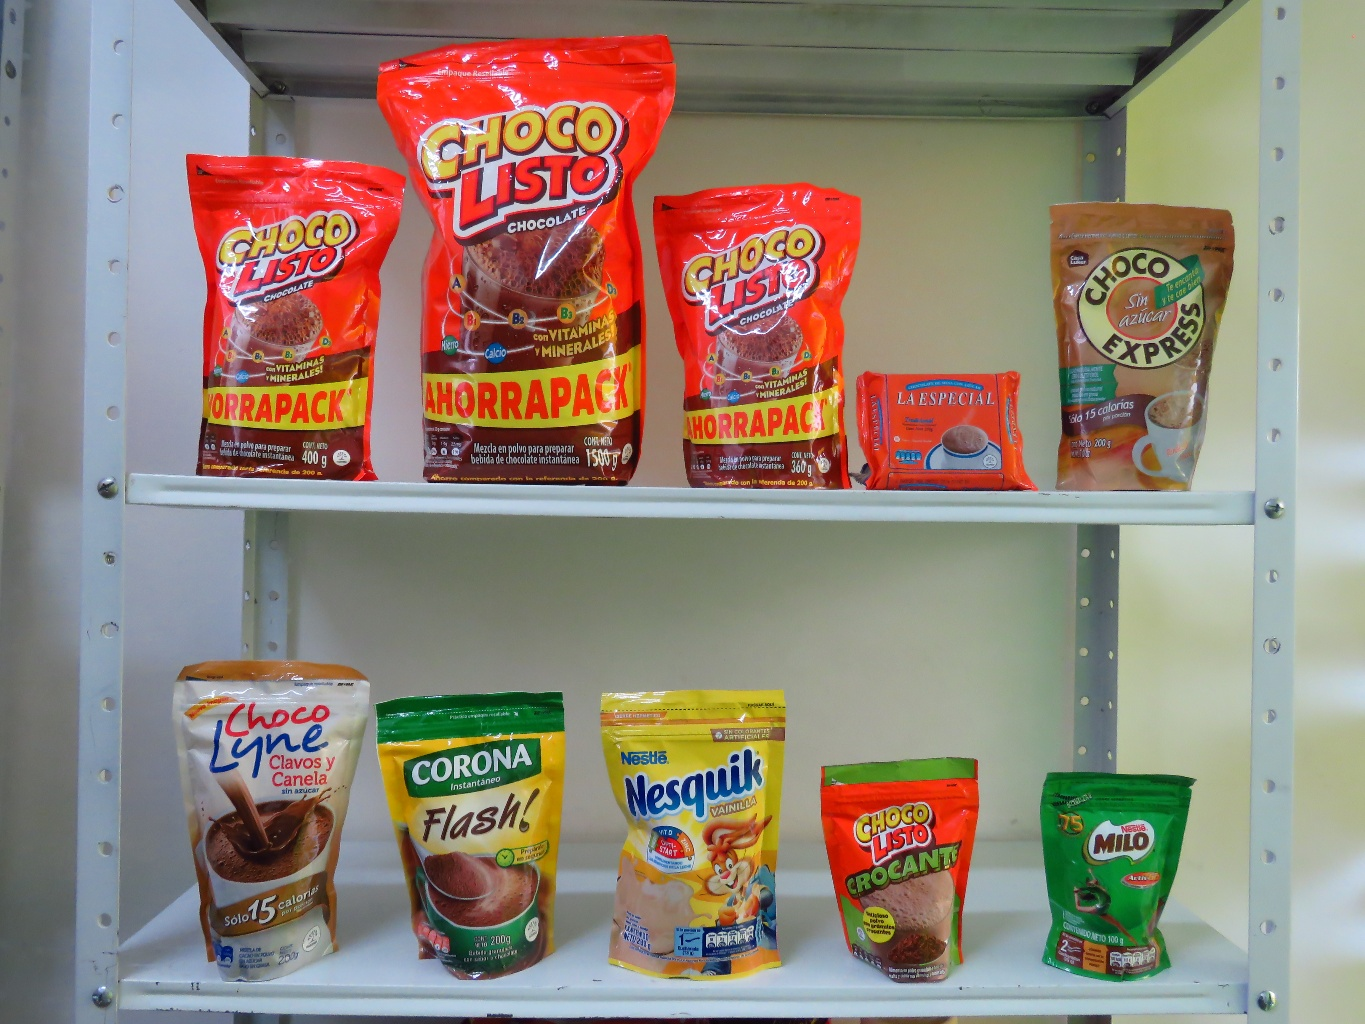COL0170102DYP10000: (823, 757, 977, 993)
COL0170103DYP1,500: (379, 35, 670, 485)
COL0170103DYP36000: (649, 189, 862, 490)
COL0170103DYP40000: (181, 153, 403, 482)
COL0170203DYP10000: (1046, 773, 1192, 984)
COL0170306DYP20000: (598, 692, 794, 980)
